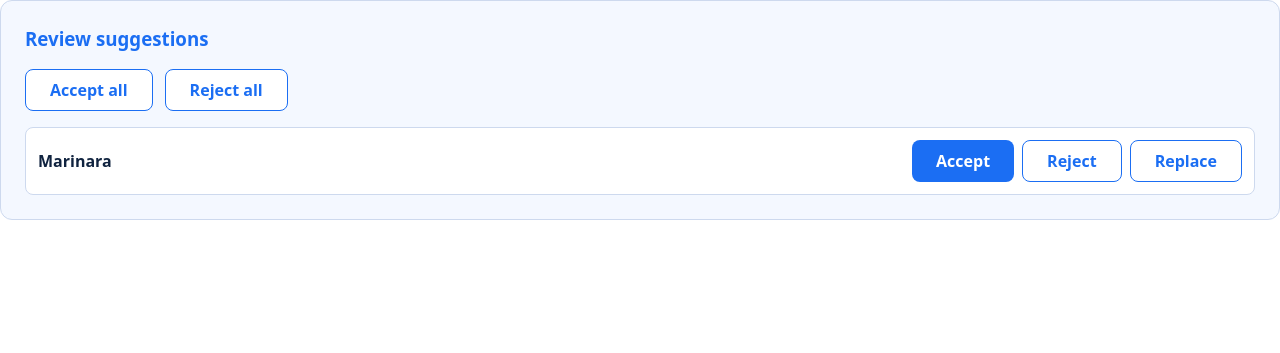
Scenario: SuggestionReview inline replace validation › rejects an invalid (duplicate) replacement with a message and changes nothing
Click the button "Replace" at (1186, 161), box [1130,140,1242,182]
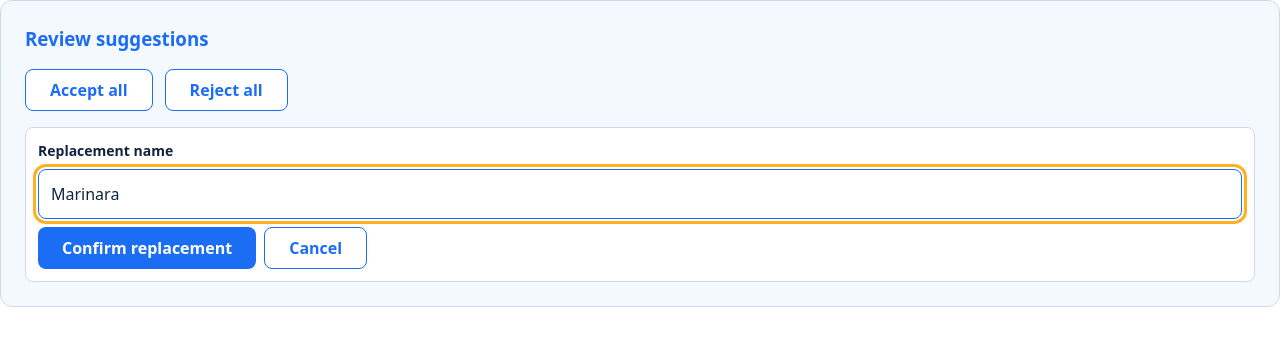
Replace the text in the field labelled "Replacement name" with "alfredo" at (640, 194), box [38,169,1242,219]
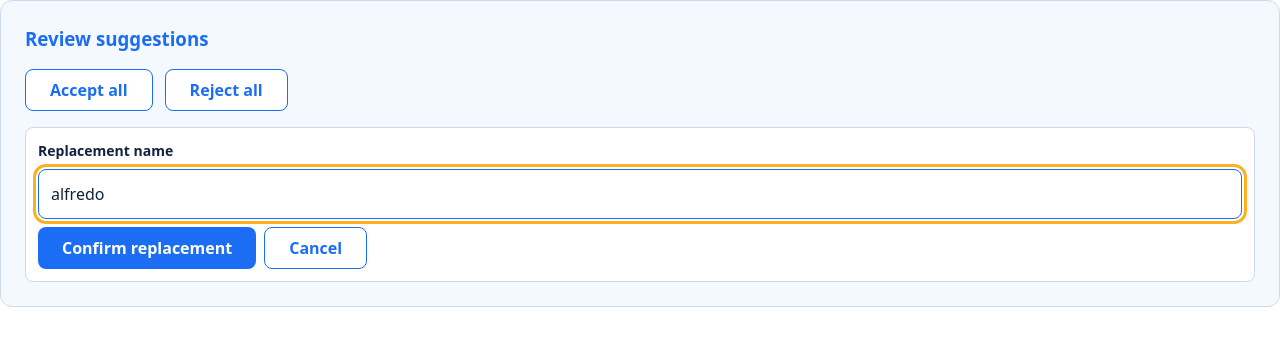
Click the button "Confirm replacement" at (147, 248), box [38,227,256,269]
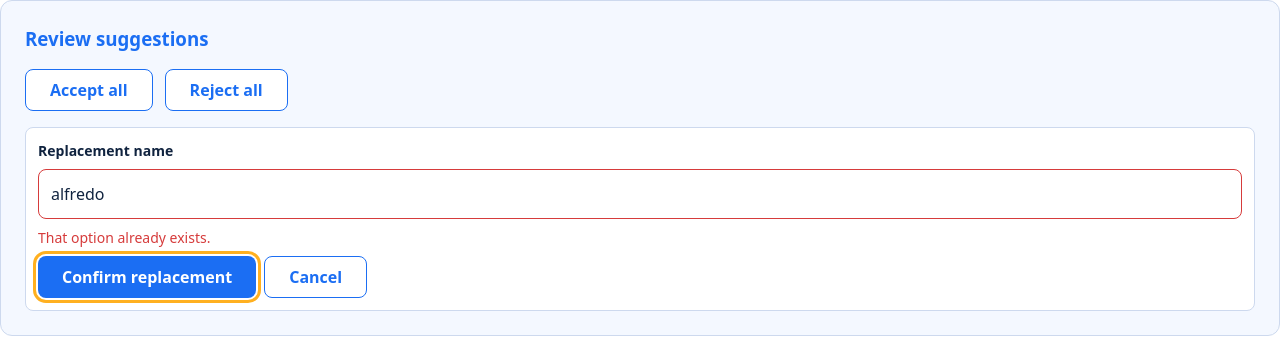
Result: the message "That option already exists." is shown at [38,228,210,247]
